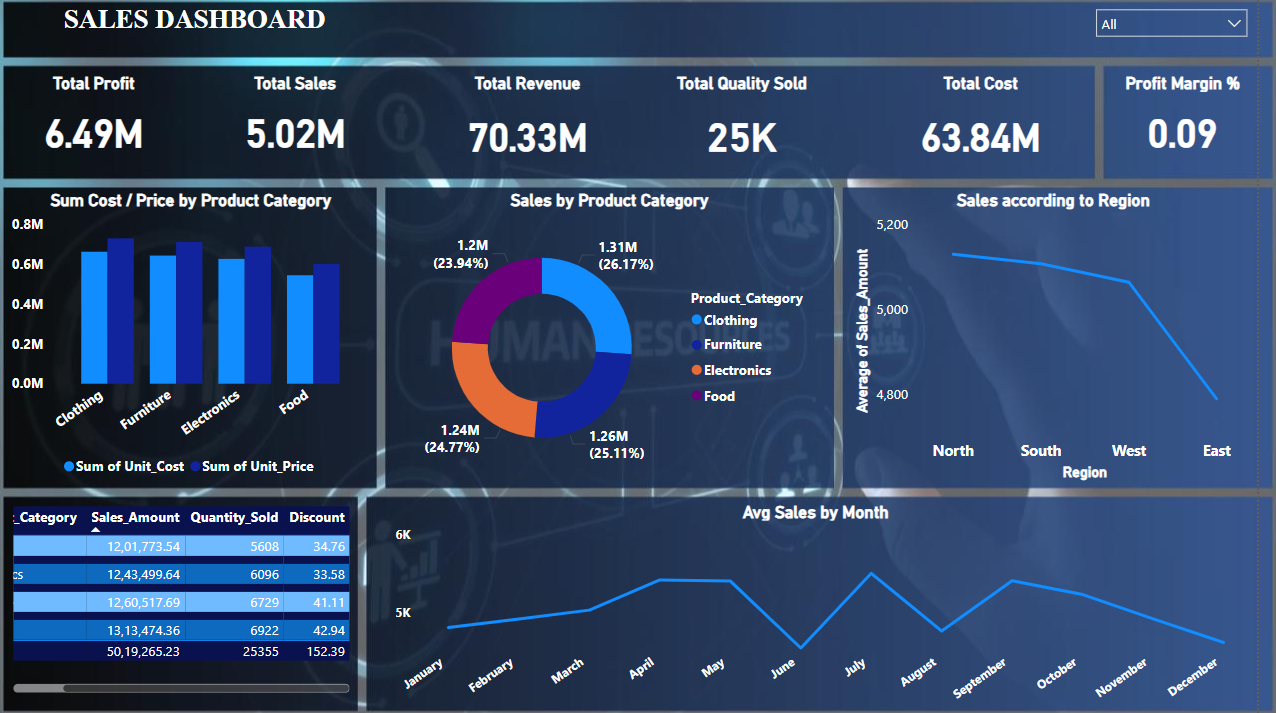

Layout of this report page (visuals, bound fields, positions):
{"tool":"powerbi","page":{"name":"Page 1","canvas":[1280,720],"ordinal":0},"visuals":[{"type":"lineChart","title":"Sales according to Region","fields":{"Category":["sales_data.Region"],"Y":["Avg(sales_data.Sales_Amount)"]},"box":[872.5,191.2,407.5,295],"z":0},{"type":"donutChart","title":" Sales by Product Category","fields":{"Category":["sales_data.Product_Category"],"Y":["Sum(sales_data.Sales_Amount)"]},"box":[411.2,191.2,442.5,296.2],"z":1000},{"type":"slicer","fields":{"Values":["sales_data.Sales_Channel"]},"box":[1108.8,0,171.2,51.2],"z":2000},{"type":"textbox","box":[37.5,0,360,51.2],"z":3000},{"type":"lineChart","title":"Avg Sales by Month","fields":{"Y":["Avg(sales_data.Sales_Amount)"],"Category":["sales_data.Month Name"]},"box":[397.5,502.5,882.5,217.5],"z":4000},{"type":"clusteredColumnChart","title":"Sum Cost / Price by Product Category","fields":{"Category":["sales_data.Product_Category"],"Y":["Sum(sales_data.Unit_Cost)","Sum(sales_data.Unit_Price)"]},"box":[30,191.2,367.5,295],"z":5000},{"type":"tableEx","fields":{"Values":["sales_data.Product_Category","Sum(sales_data.Sales_Amount)","Sum(sales_data.Quantity_Sold)","Sum(sales_data.Discount)"]},"box":[30,502.5,347.5,196.2],"z":6000},{"type":"card","title":"Total Profit","fields":{"Values":["sales_data.Total Profit"]},"box":[37.5,73.8,158.8,95],"z":7000},{"type":"card","title":"Total Sales","fields":{"Values":["sales_data.Total Sales"]},"box":[238.8,73.8,158.8,95],"z":8000},{"type":"card","title":"Total Revenue","fields":{"Values":["sales_data.Total Revenue"]},"box":[468.8,73.8,163.8,102.5],"z":9000},{"type":"card","title":"Total Quality Sold","fields":{"Values":["sales_data.Total Quality Sold"]},"box":[676.2,73.8,177.5,102.5],"z":10000},{"type":"card","title":"Total Cost","fields":{"Values":["sales_data.Total Cost"]},"box":[910,73.8,187.5,102.5],"z":11000},{"type":"card","title":"Profit Margin %","fields":{"Values":["sales_data.Profit Margin"]},"box":[1131.2,73.8,148.8,95],"z":12000}]}

Visuals, with their boxes in screenshot pixels (x1, y1, x2, y2), scaled from the page's 1280x720 canvas onto the 1276x713 screenshot:
"Sales according to Region" lineChart: bbox=(870, 189, 1275, 481)
" Sales by Product Category" donutChart: bbox=(410, 189, 851, 483)
slicer - sales_data.Sales_Channel: bbox=(1105, 0, 1275, 51)
textbox: bbox=(37, 0, 396, 51)
"Avg Sales by Month" lineChart: bbox=(396, 498, 1275, 712)
"Sum Cost / Price by Product Category" clusteredColumnChart: bbox=(30, 189, 396, 481)
tableEx - sales_data.Product_Category x Sum(sales_data.Sales_Amount): bbox=(30, 498, 376, 692)
"Total Profit" card: bbox=(37, 73, 196, 167)
"Total Sales" card: bbox=(238, 73, 396, 167)
"Total Revenue" card: bbox=(467, 73, 631, 175)
"Total Quality Sold" card: bbox=(674, 73, 851, 175)
"Total Cost" card: bbox=(907, 73, 1094, 175)
"Profit Margin %" card: bbox=(1128, 73, 1275, 167)
